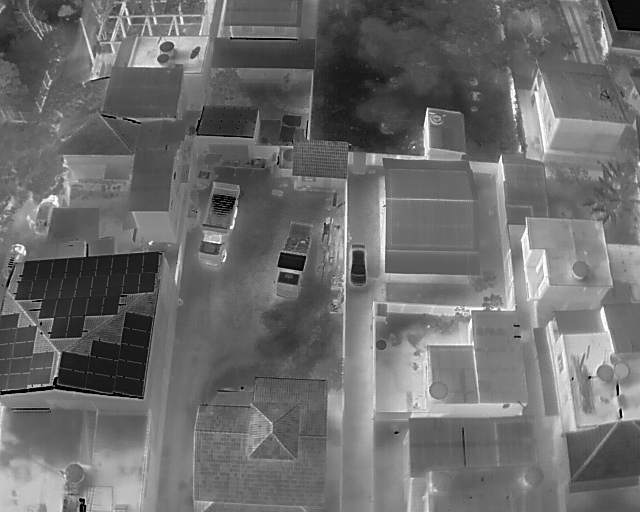car: (35, 184, 58, 238), (2, 238, 24, 288), (347, 239, 369, 289)
person: (23, 212, 37, 233)
truck: (201, 179, 238, 268), (277, 217, 311, 301)
